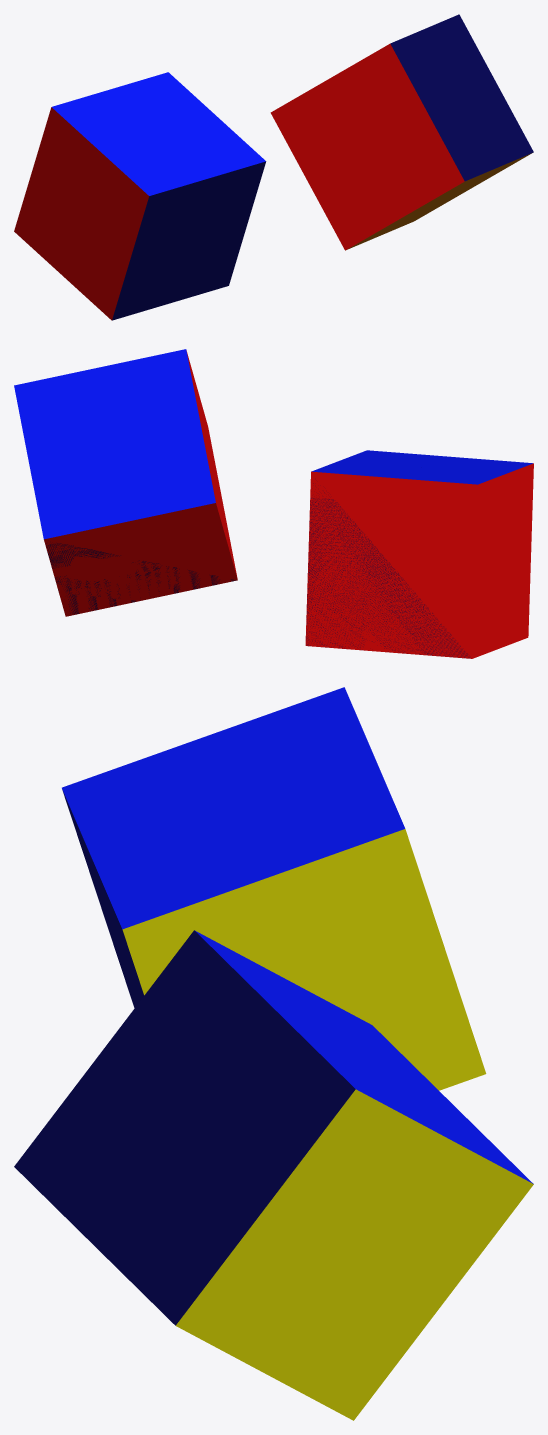
3 renders of one model, top to bottom at view 1: azimuth 30°, elevation 25°; view 2: azimuth 150°, elevation 25°; view 3: azimuth 270°, elevation 25°, orthographic. The views are drawn at different scales.
Visible parts, largest first — view 1: Box003, Box002; view 2: Box003, Box002; view 3: Box002, Box003.
Boxes of the visible parts, <box> form: Box003: <box>14,72,266,320</box>; Box002: <box>270,14,533,250</box>; Box003: <box>305,450,533,658</box>; Box002: <box>14,349,237,616</box>; Box002: <box>14,930,533,1420</box>; Box003: <box>62,687,486,1090</box>.
Bounding box in the file's own units: 3.34 × 1.58 × 1.73.
